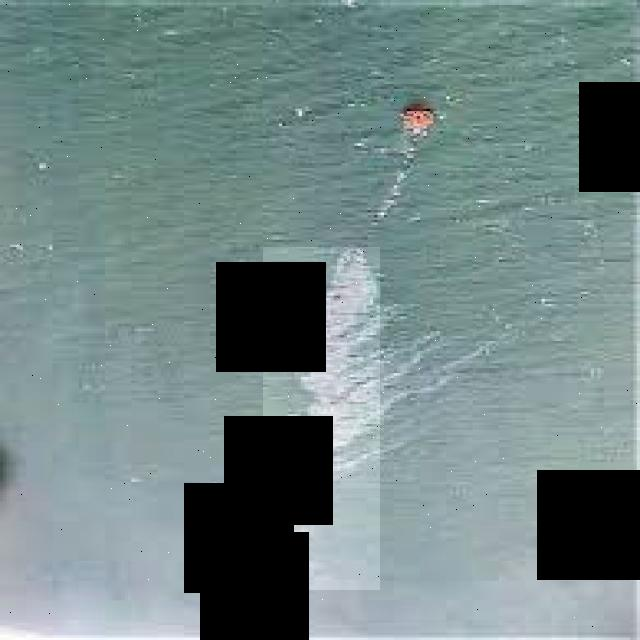oil spill: (264, 248, 380, 590)
